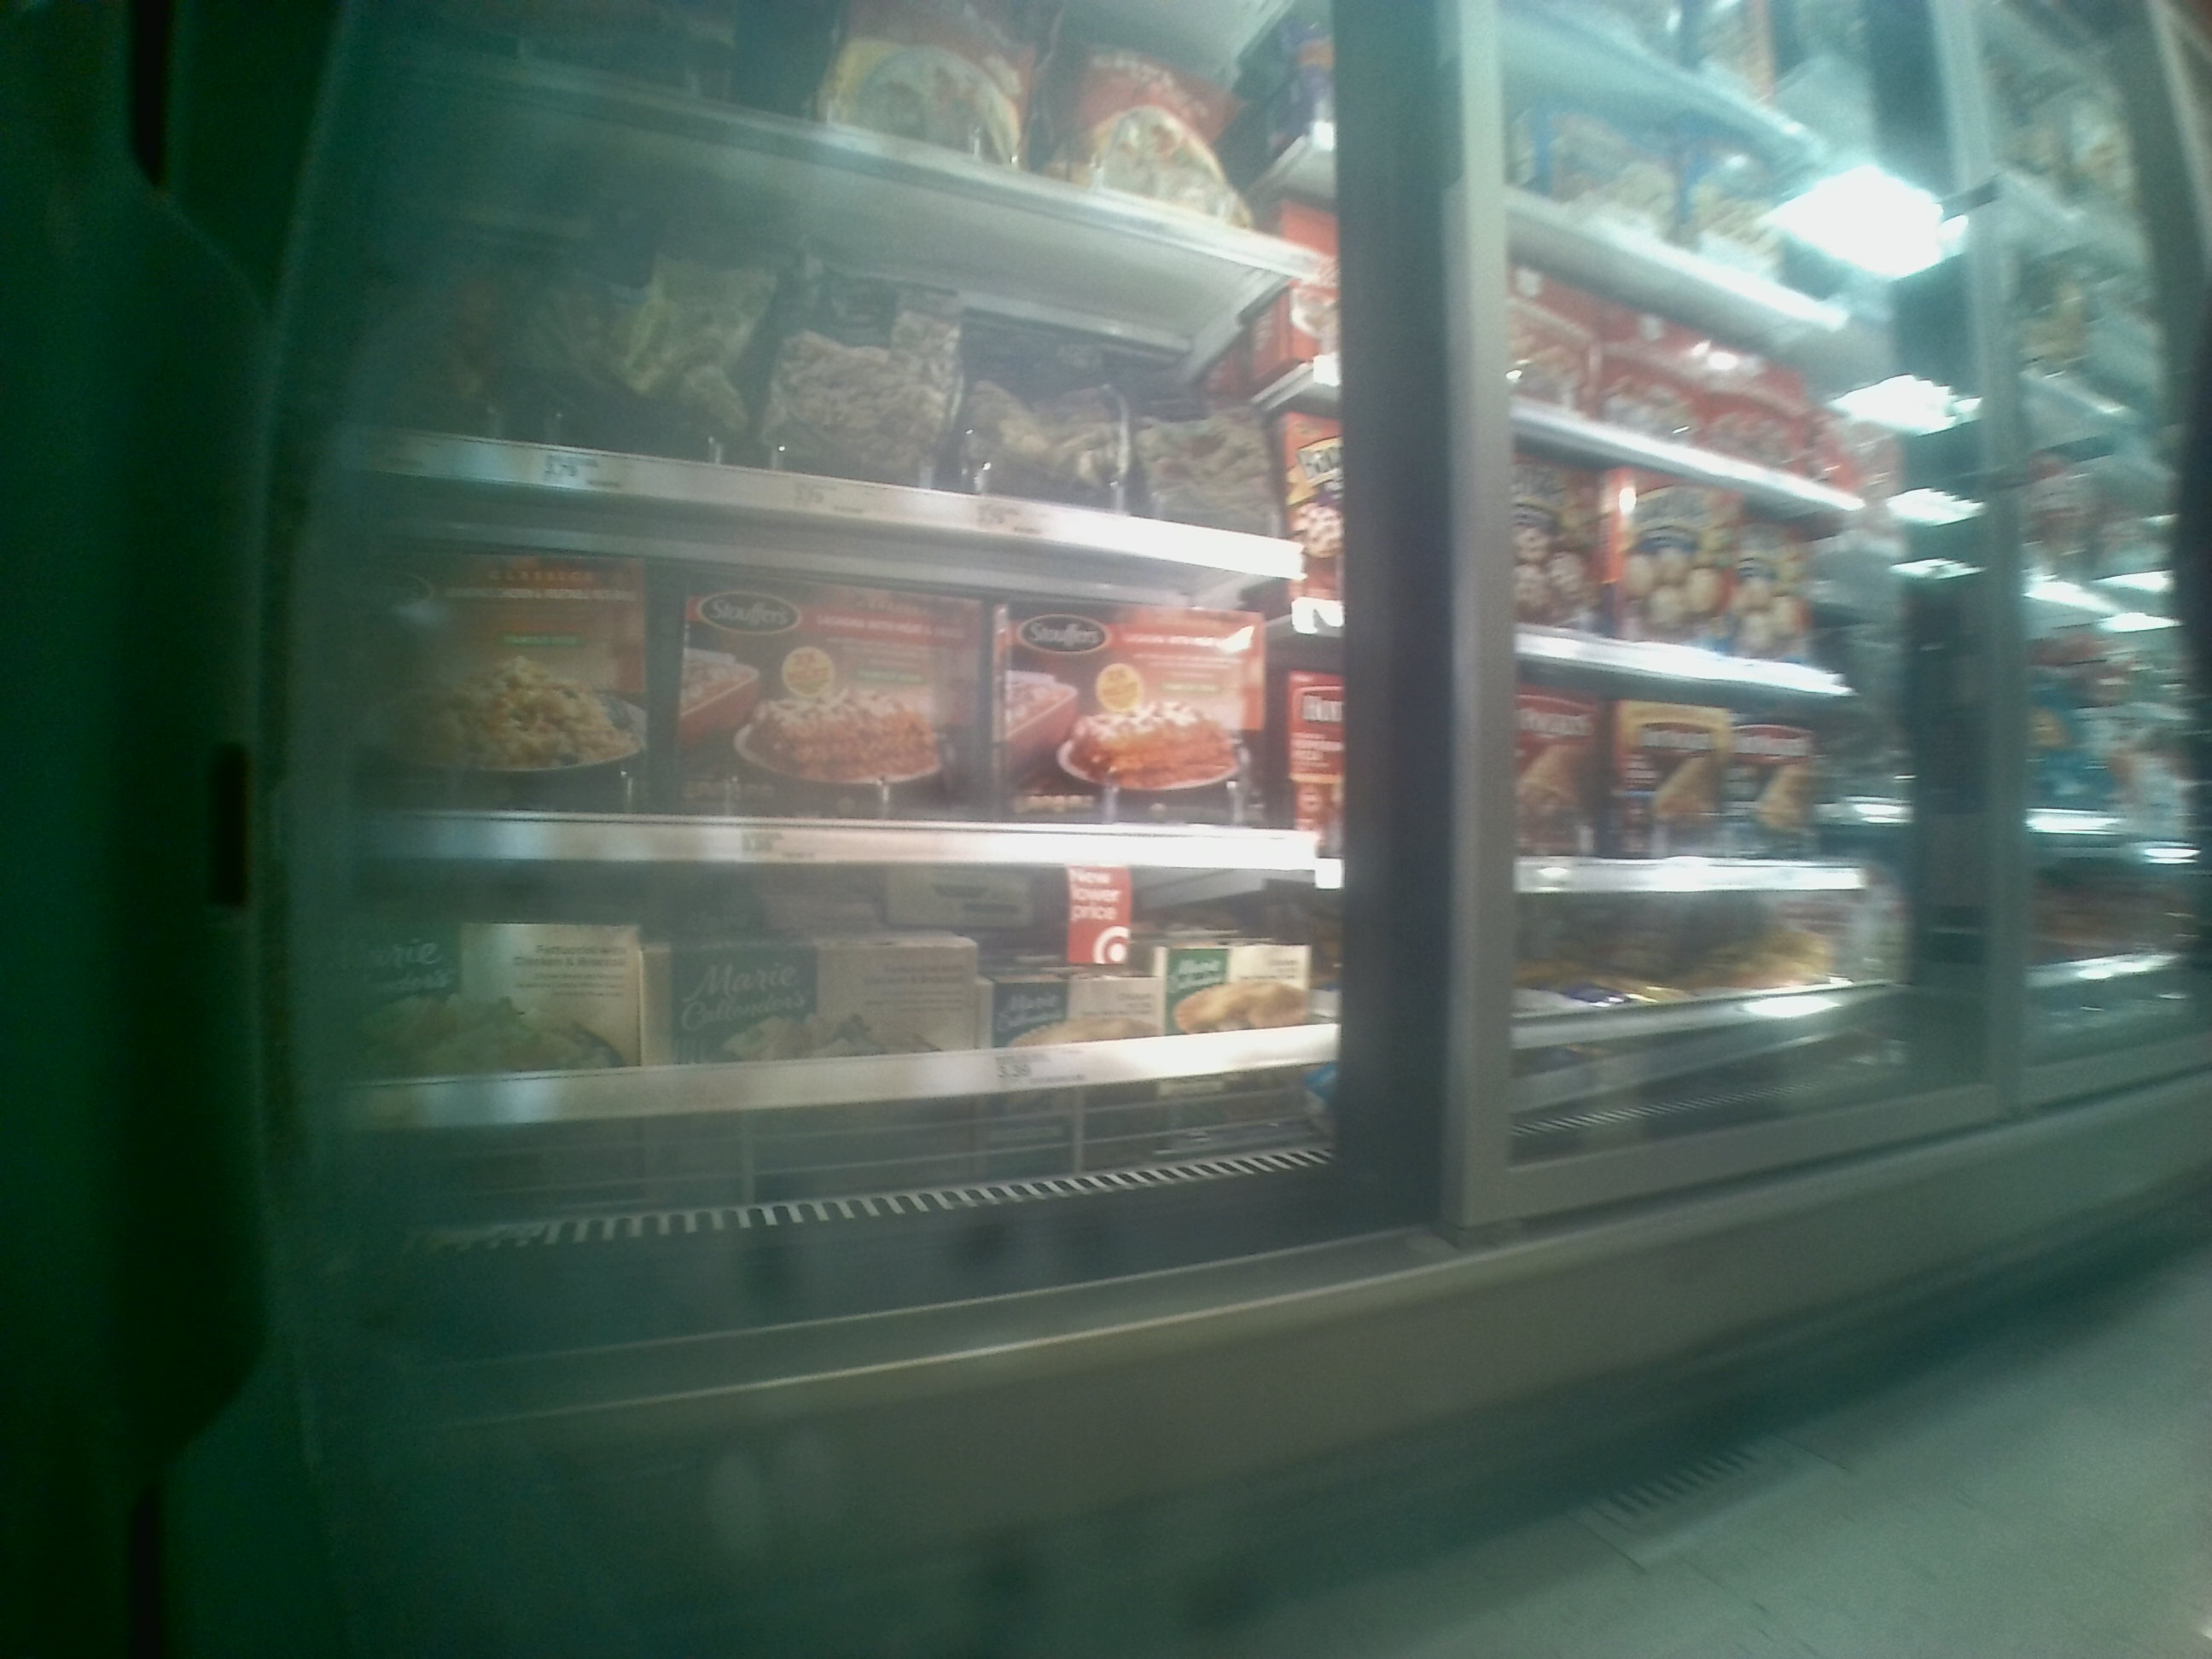shelf: (341, 828, 1378, 1206)
